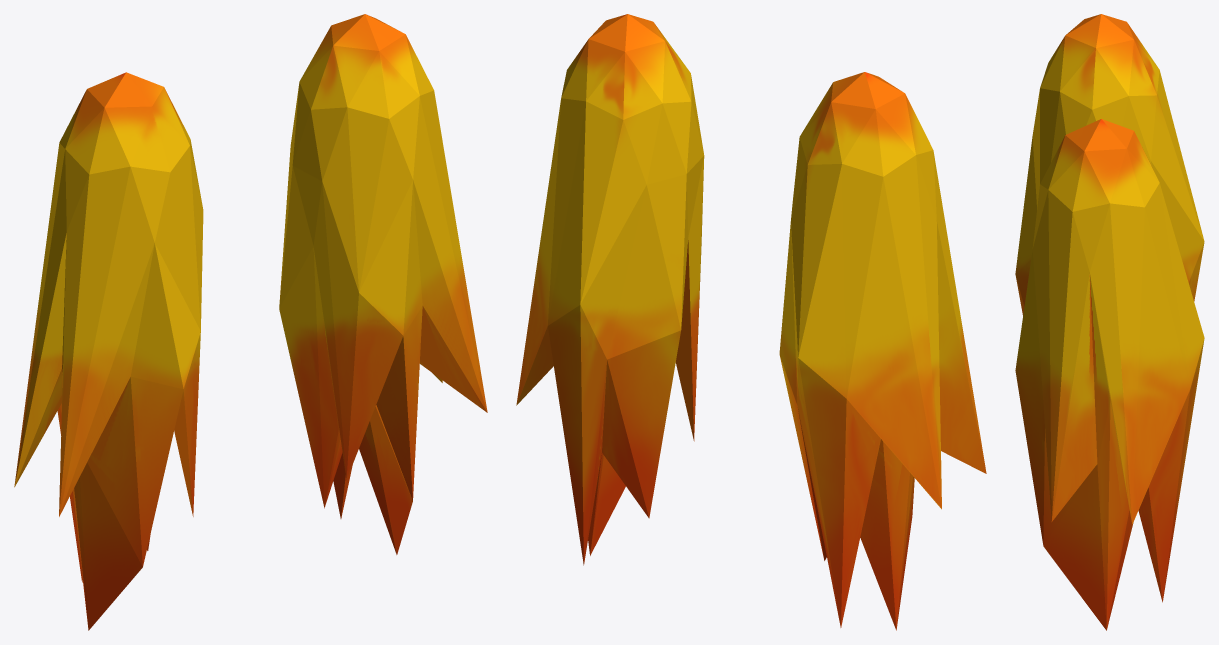
Rendered from big_flame.obj.
3 views of the same model, side by side, from view 1: azimuth 30°, elevation 25°; view 2: azimuth 150°, elevation 25°; view 3: azimuth 270°, elevation 25° (orthographic). The views are drawn at different scales.
Visible parts, largest first — view 1: Icosphere.001; view 2: Icosphere.001; view 3: Icosphere.001.
Boxes of the visible parts, x1,y1,x2,y2 form: Icosphere.001: (14,14,487,630); Icosphere.001: (516,14,986,630); Icosphere.001: (1015,14,1204,630).
Size of the model in its own units: 0.429 by 0.528 by 0.1822.
1 material, 1 textured.
